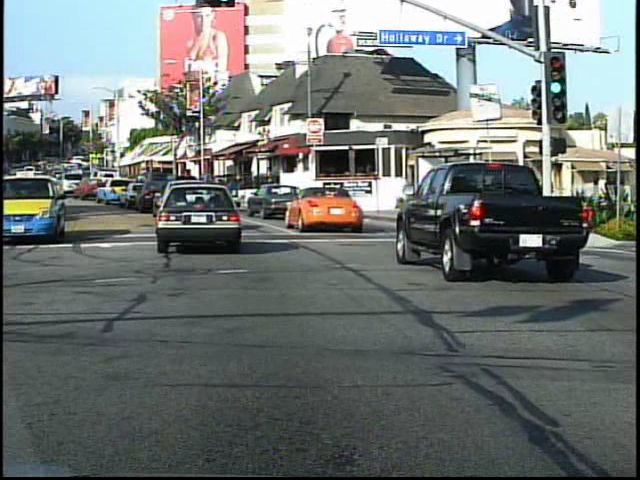person: (598, 175, 620, 257)
